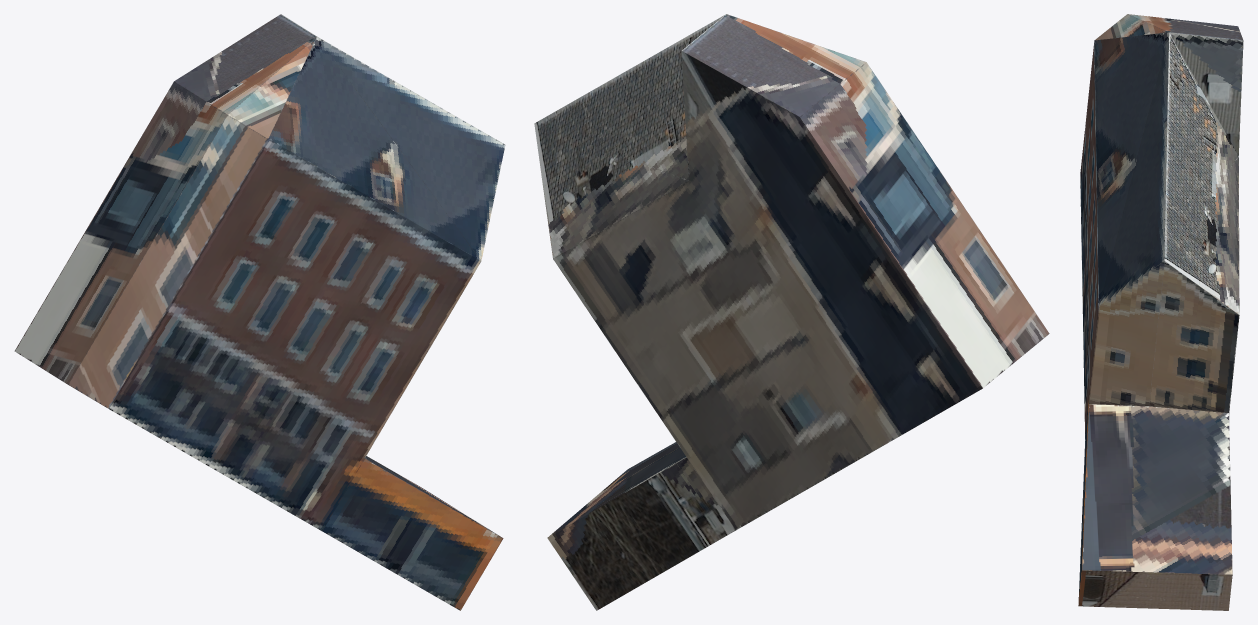
The picture shows the model from 3 angles, left to right: view 1: azimuth 30°, elevation 25°; view 2: azimuth 150°, elevation 25°; view 3: azimuth 270°, elevation 25°; orthographic projection. The views are drawn at different scales.
Parts seen in each view (by area): view 1: BAG_0599100000671744 (×4); view 2: BAG_0599100000671744 (×3); view 3: BAG_0599100000671744 (×4).
Boxes of the visible parts, x1,y1,x2,y2 form: BAG_0599100000671744 (×4): (14, 14, 505, 610); BAG_0599100000671744 (×3): (534, 14, 1049, 610); BAG_0599100000671744 (×4): (1078, 14, 1243, 610).
Size of the model in its own units: 22.72 by 26.59 by 7.42.
5 materials, 5 textured.
